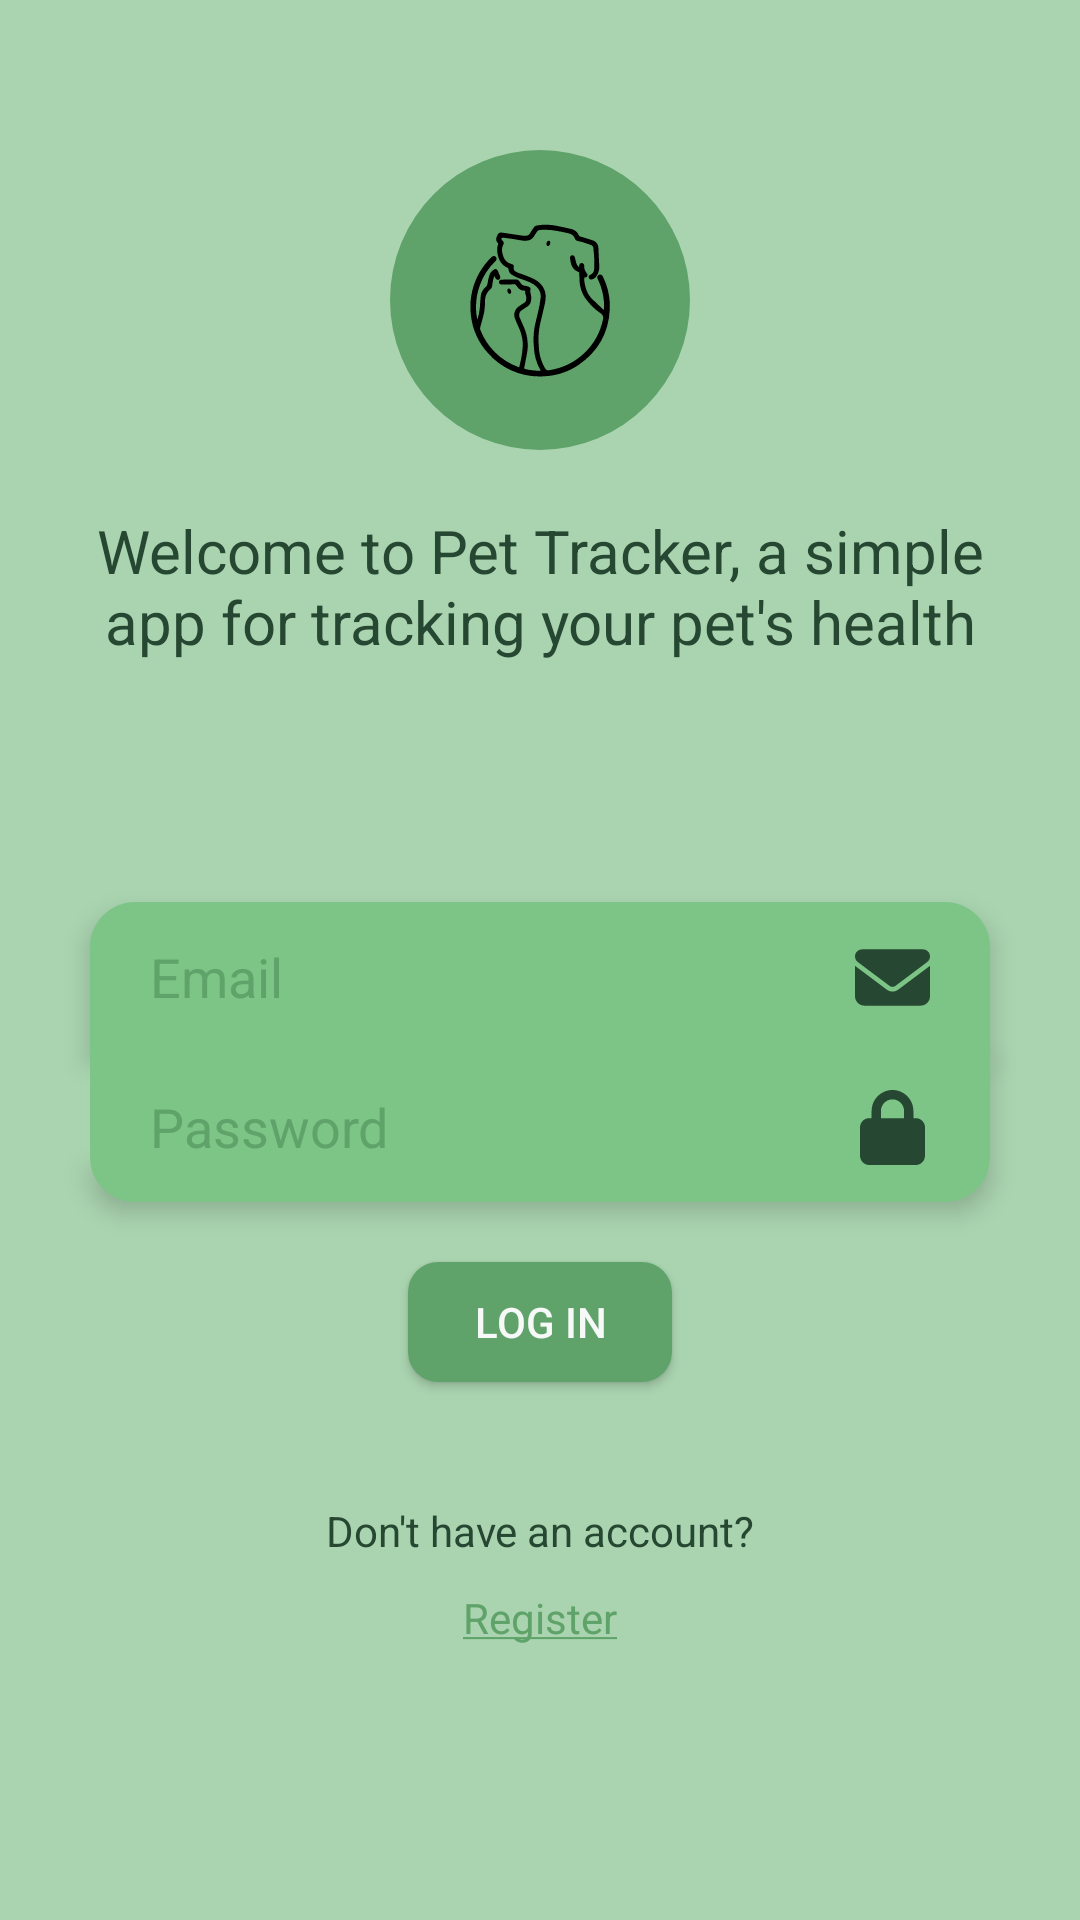

Screen size 1080×1920. Icon name, then its center in pixels as point (x, y):
dog cat: point (540, 300)
envelope: point (892, 977)
lock: point (892, 1127)
